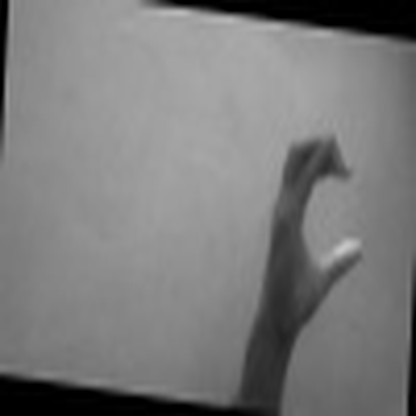c: (265, 122, 368, 322)
